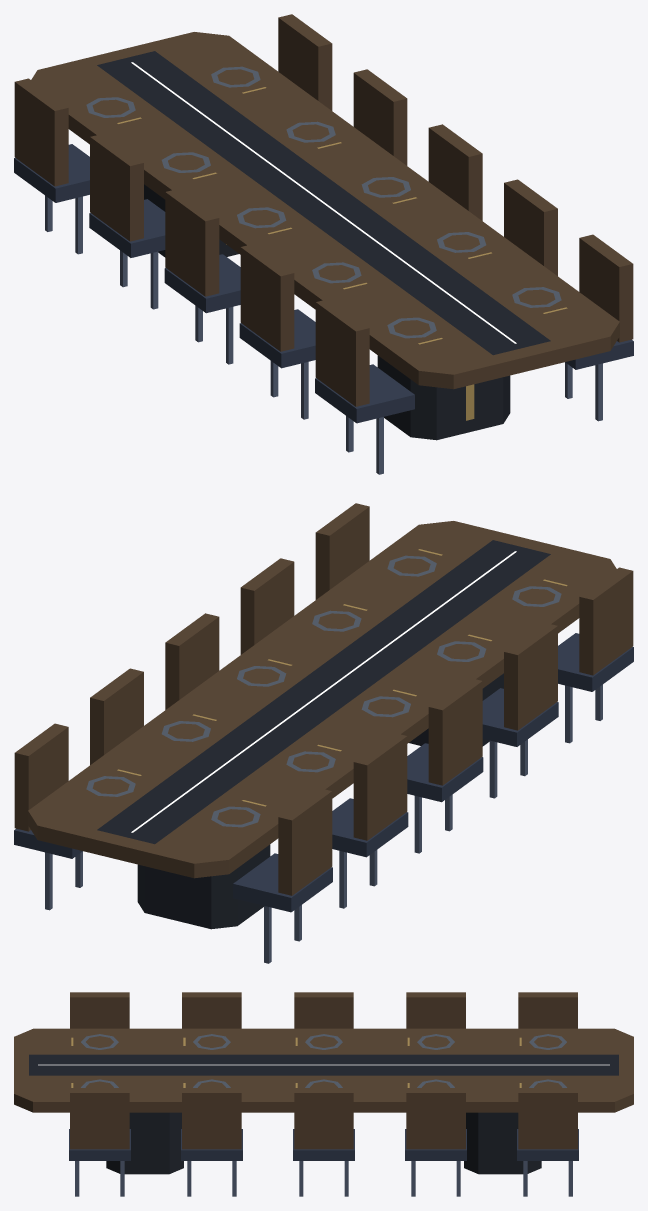
The model's file is res_dining_table_long.glb.
3 views of the same model, one above another, from view 1: azimuth 30°, elevation 25°; view 2: azimuth 150°, elevation 25°; view 3: azimuth 270°, elevation 25° (orthographic). The views are drawn at different scales.
Parts seen in each view (by area): view 1: banquet_top, marble_runner, chair_seat, chair_sled, dinner_plate, runner_led, brass_pedestal_inlay; view 2: banquet_top, marble_runner, chair_seat, chair_sled, dinner_plate, runner_led; view 3: banquet_top, marble_runner, chair_seat, chair_sled, dinner_plate, runner_led.
Boxes of the visible parts, left/top/right/bottom form: banquet_top: left=14, top=14, right=633, bottom=406; marble_runner: left=97, top=51, right=550, bottom=440; chair_seat: left=14, top=144, right=633, bottom=423; chair_sled: left=45, top=195, right=602, bottom=474; dinner_plate: left=86, top=66, right=561, bottom=338; runner_led: left=131, top=62, right=516, bottom=343; brass_pedestal_inlay: left=117, top=87, right=567, bottom=420; banquet_top: left=14, top=503, right=633, bottom=895; marble_runner: left=97, top=540, right=550, bottom=929; chair_seat: left=14, top=633, right=633, bottom=912; chair_sled: left=45, top=684, right=602, bottom=963; dinner_plate: left=86, top=555, right=561, bottom=827; runner_led: left=131, top=551, right=516, bottom=832; banquet_top: left=14, top=992, right=633, bottom=1149; marble_runner: left=29, top=1054, right=618, bottom=1174; chair_seat: left=69, top=1129, right=578, bottom=1160; chair_sled: left=75, top=1161, right=572, bottom=1196; dinner_plate: left=81, top=1034, right=566, bottom=1087; runner_led: left=38, top=1064, right=609, bottom=1065.
Size of the model in its own units: 2 by 1.05 by 5.2.
